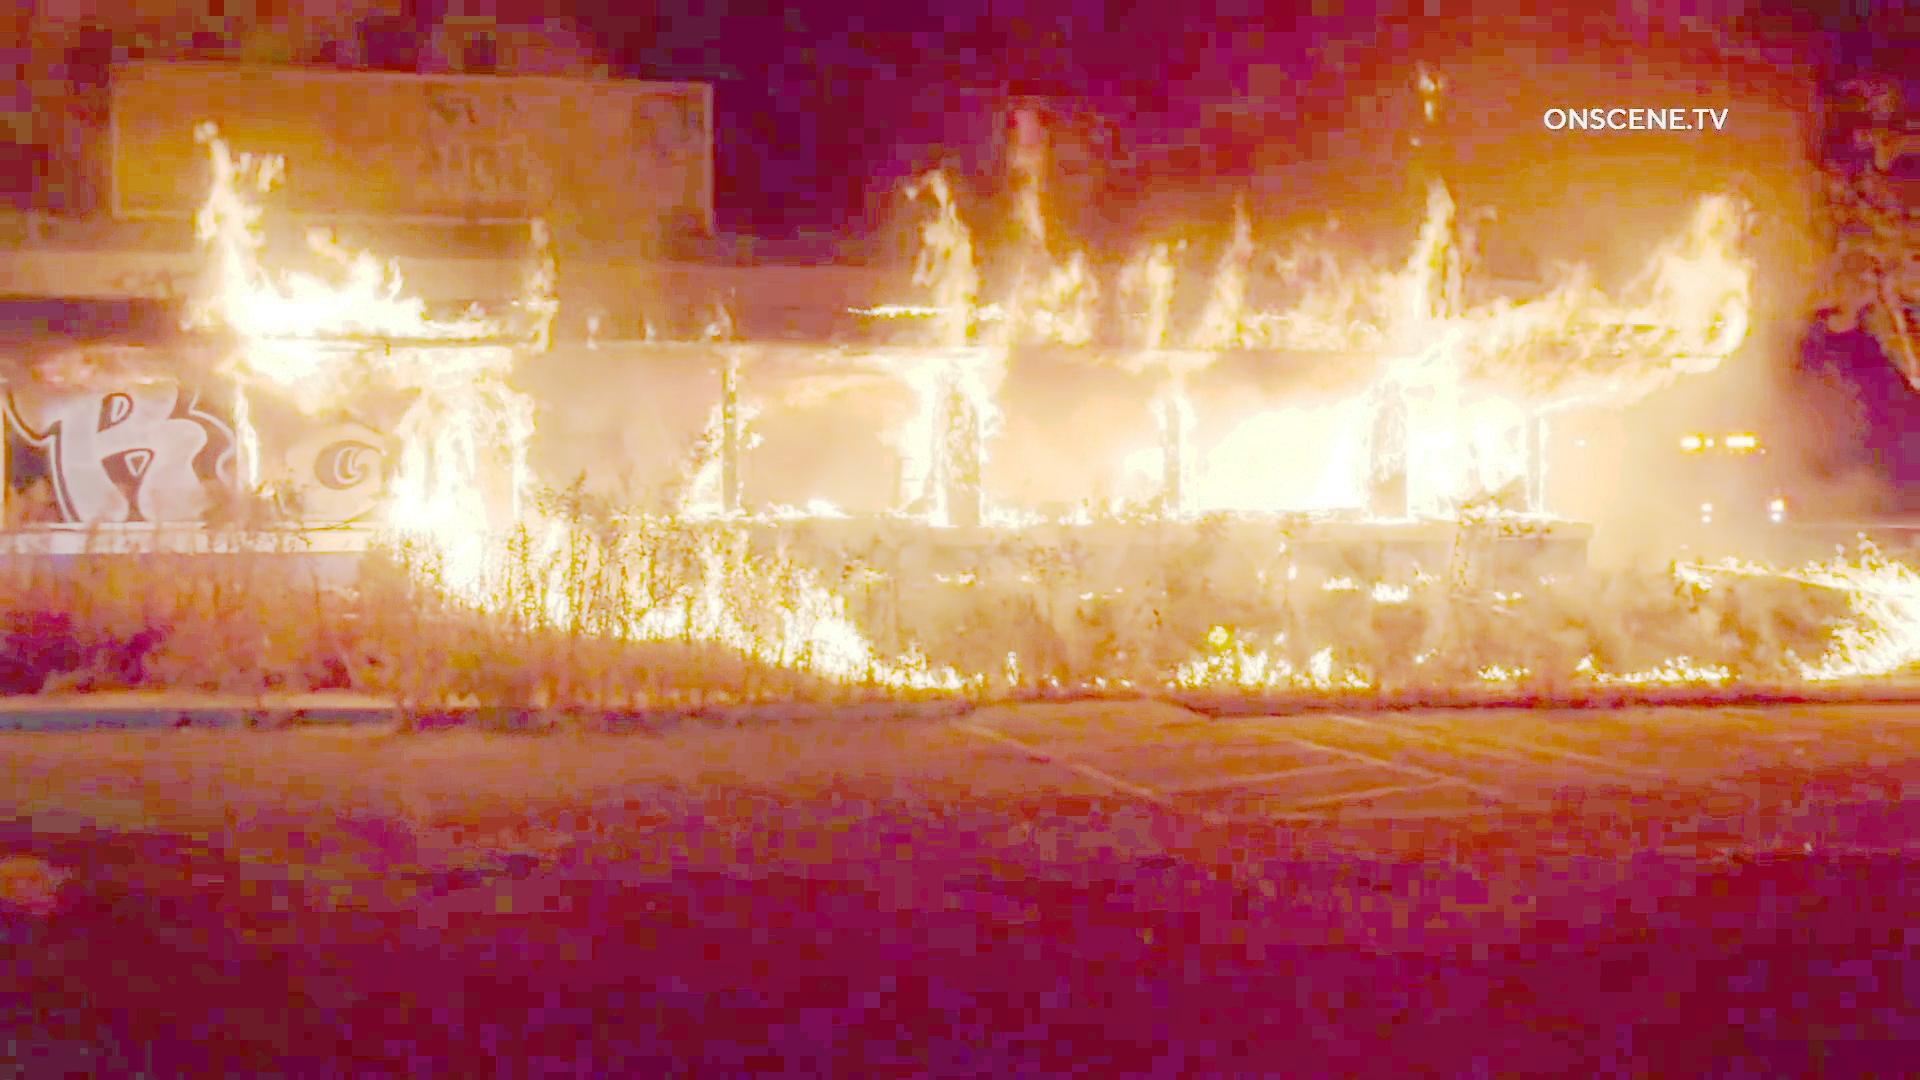fire: (872, 198, 1742, 538), (186, 128, 551, 588), (686, 541, 935, 688), (1796, 538, 1920, 670)
